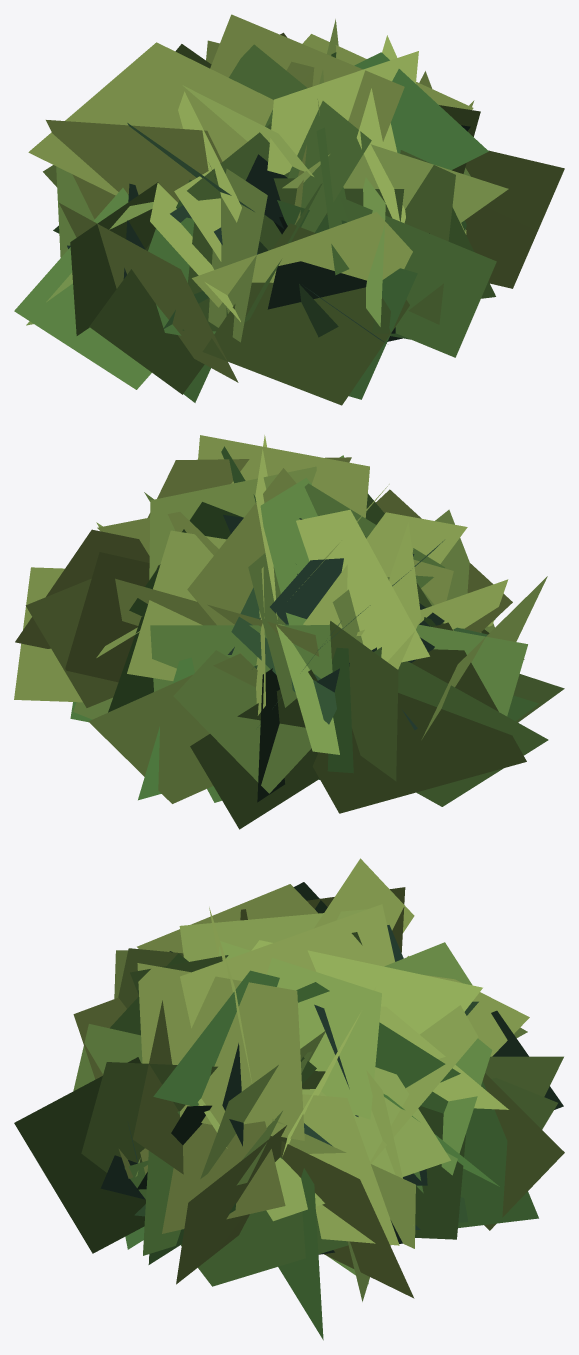
Rendered from BushRound.fbx.
The picture shows the model from 3 angles, top to bottom: view 1: azimuth 30°, elevation 25°; view 2: azimuth 150°, elevation 25°; view 3: azimuth 270°, elevation 25°; orthographic projection. The views are drawn at different scales.
Visible parts, largest first — view 1: BushRound; view 2: BushRound; view 3: BushRound.
Boxes of the visible parts, x1=… form: BushRound: x1=14, y1=14, x2=564, y2=405; BushRound: x1=14, y1=435, x2=564, y2=829; BushRound: x1=14, y1=858, x2=564, y2=1340.
Size of the model in its own units: 2.09 by 1.23 by 1.8.
